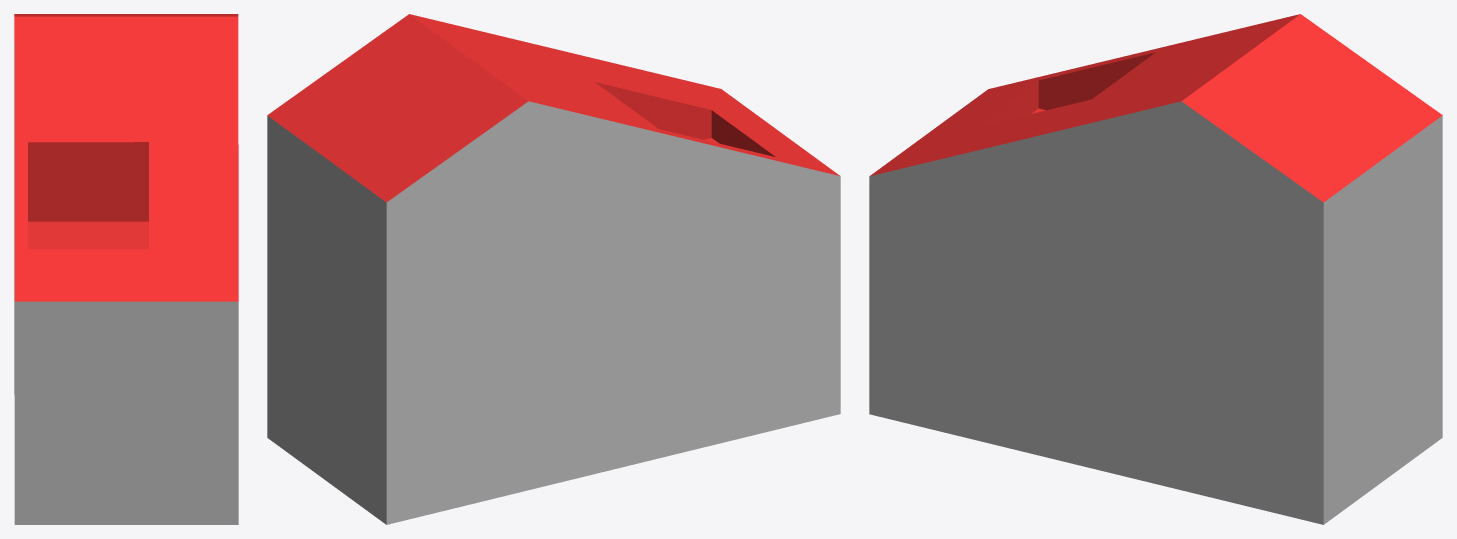
The model's file is pb-9635c0fa-7f36-11f0-885c-9c7bef4dcf4c.dae.
The picture shows the model from 3 angles, left to right: view 1: azimuth 30°, elevation 25°; view 2: azimuth 150°, elevation 25°; view 3: azimuth 270°, elevation 25°; orthographic projection. The views are drawn at different scales.
Size of the model in its own units: 9.83 by 12.03 by 9.
